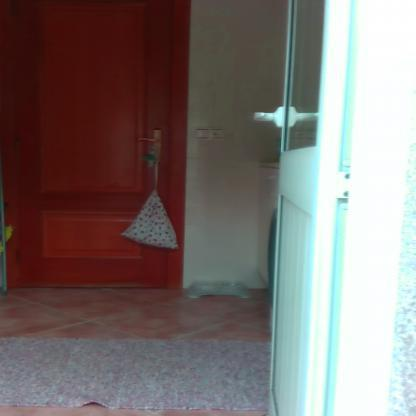door: (13, 0, 169, 288)
hinged: (10, 0, 22, 18), (14, 139, 22, 156), (16, 249, 24, 264)
lever: (132, 136, 162, 145)
